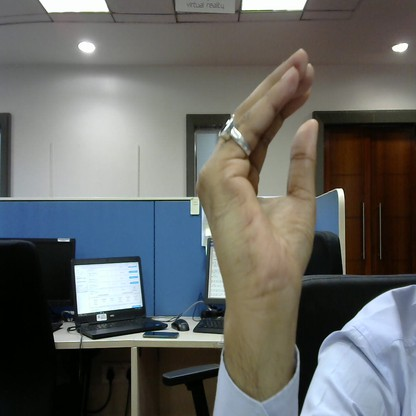c: (186, 43, 322, 311)
